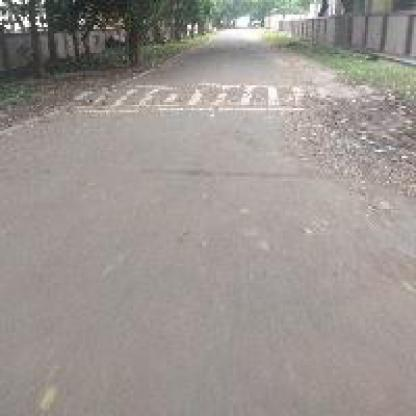Speed Bump: (50, 79, 310, 117)
